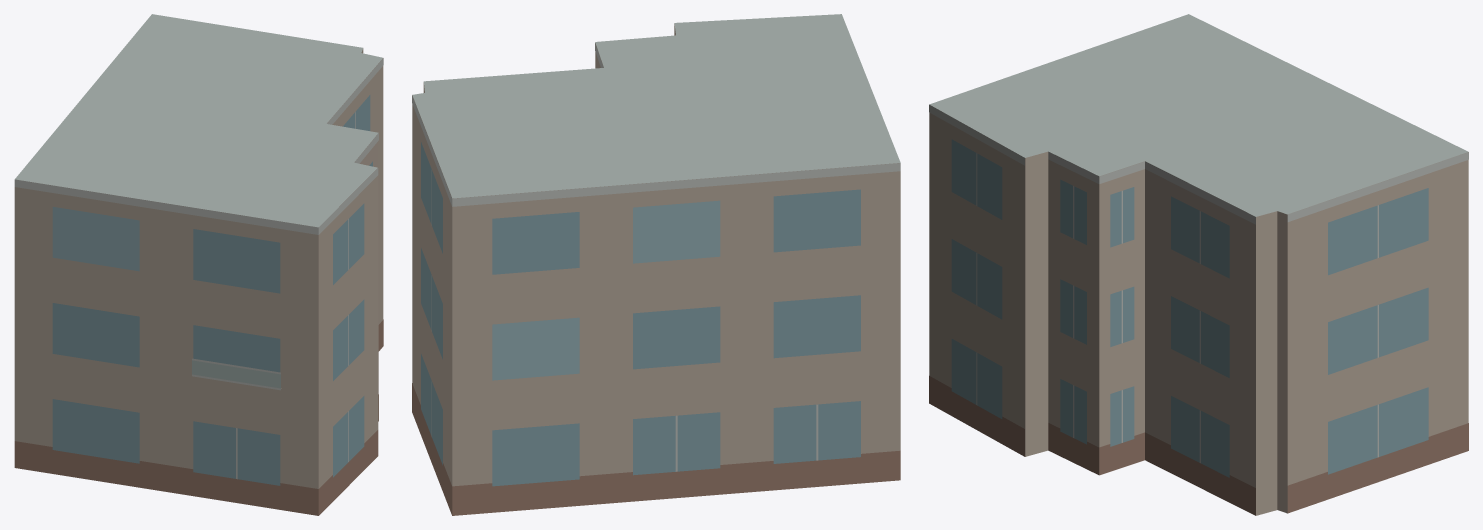
File: survey-upis-32678858.glb
3 renders of one model, left to right at view 1: azimuth 30°, elevation 25°; view 2: azimuth 150°, elevation 25°; view 3: azimuth 270°, elevation 25°, orthographic. The views are drawn at different scales.
Visible parts, largest first — view 1: survey-upis-32678858.tmp; view 2: survey-upis-32678858.tmp; view 3: survey-upis-32678858.tmp.
Part boxes in pixels (x1,y1,x2,y2): survey-upis-32678858.tmp: [14, 14, 383, 515]; survey-upis-32678858.tmp: [412, 14, 900, 515]; survey-upis-32678858.tmp: [929, 14, 1468, 515].
Bounding box in the file's own units: 13.47 × 9.25 × 15.14.
